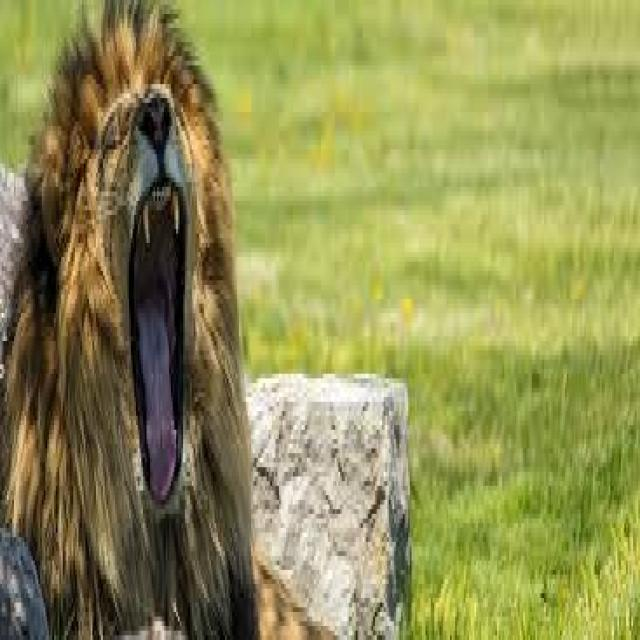Lion: (3, 11, 264, 635)
